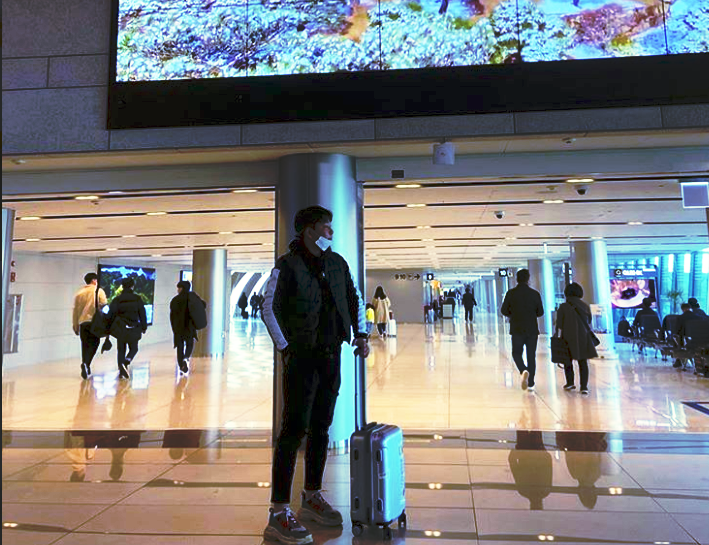mask_weared_incorrect: (296, 203, 337, 256)
